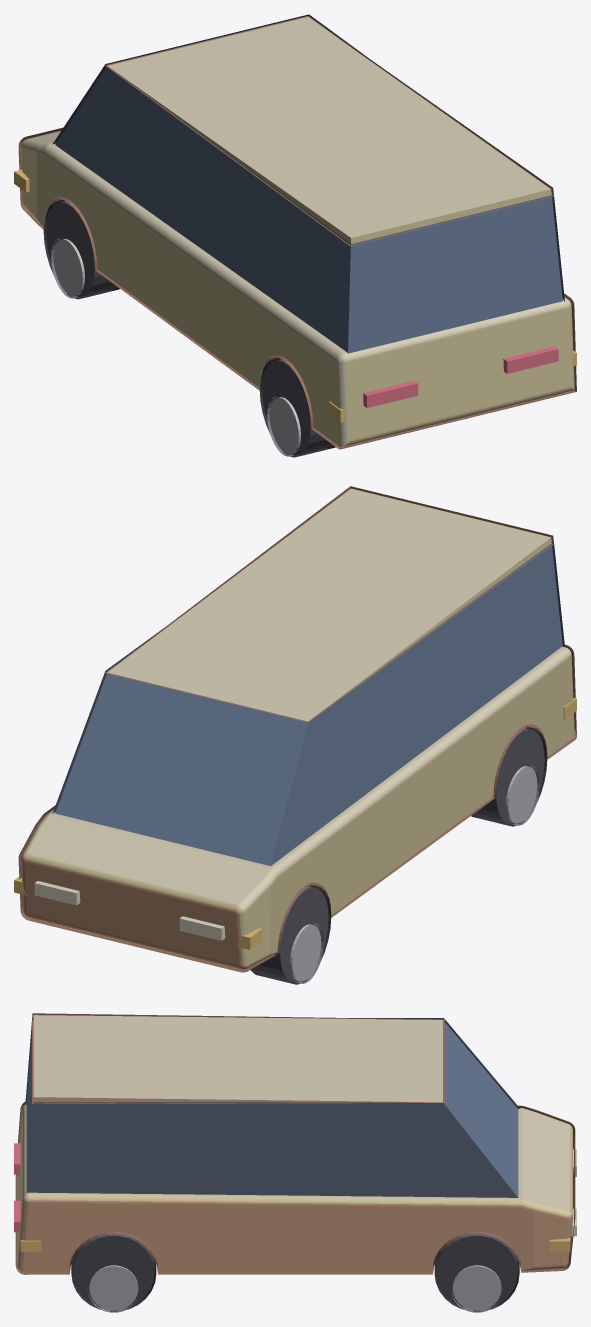
File: traffic_van_0.glb
3 renders of one model, top to bottom at view 1: azimuth 30°, elevation 25°; view 2: azimuth 150°, elevation 25°; view 3: azimuth 270°, elevation 25°, orthographic. The views are drawn at different scales.
Visible parts, largest first — view 1: car, blink; view 2: car, blink; view 3: car, blink.
Part boxes in pixels (x1=…): car: x1=18, y1=14, x2=576, y2=457; blink: x1=14, y1=169, x2=576, y2=422; car: x1=18, y1=486, x2=576, y2=984; blink: x1=14, y1=698, x2=576, y2=949; car: x1=14, y1=1013, x2=576, y2=1312; blink: x1=20, y1=1238, x2=570, y2=1251.
Size of the model in its own units: 2.07 by 2.02 by 4.96.
